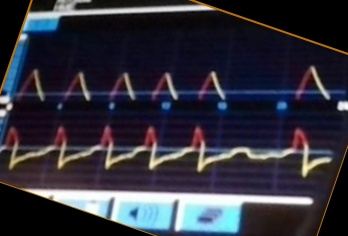Ineffective_effort Flow: (2, 119, 330, 184)
Ineffective_effort Volume: (16, 59, 332, 101)
